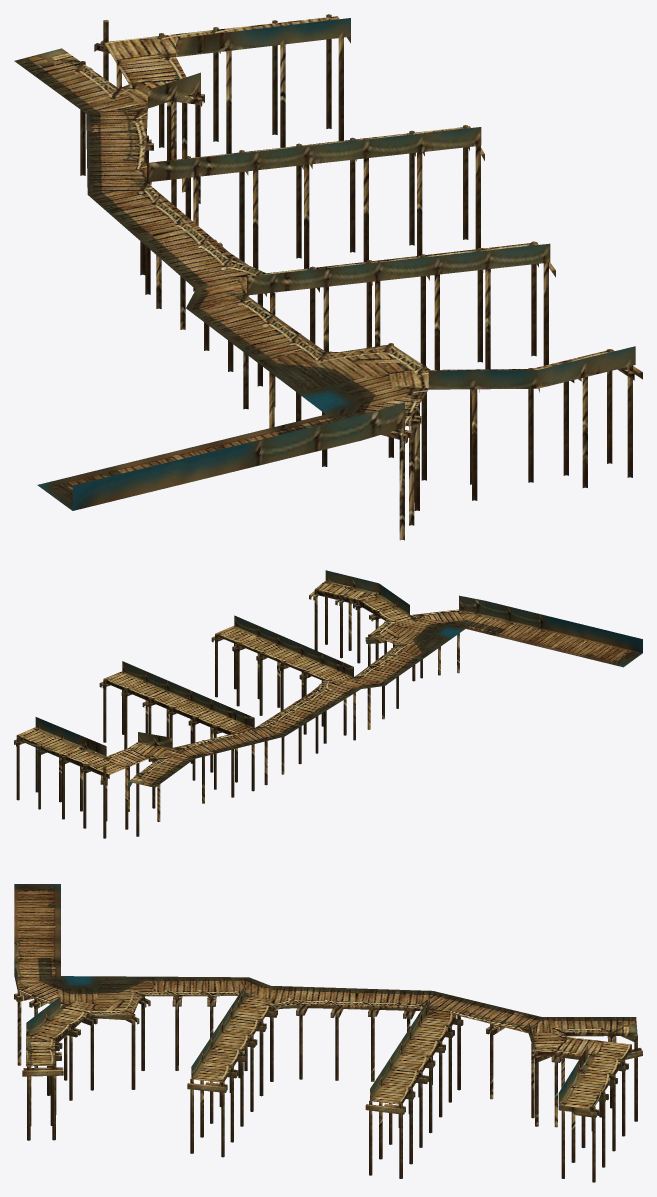
The model's file is T_B_Ferry_01.fbx.
The picture shows the model from 3 angles, top to bottom: view 1: azimuth 30°, elevation 25°; view 2: azimuth 150°, elevation 25°; view 3: azimuth 270°, elevation 25°; orthographic projection. The views are drawn at different scales.
Visible parts, largest first — view 1: T_B_Ferry_01; view 2: T_B_Ferry_01; view 3: T_B_Ferry_01.
Part boxes in pixels (<box>): T_B_Ferry_01: <box>14,14,642,540</box>; T_B_Ferry_01: <box>14,570,642,838</box>; T_B_Ferry_01: <box>14,884,642,1182</box>.
Size of the model in its own units: 26.12 by 4.94 by 30.84.
Materials: 1 (1 with a texture image).
